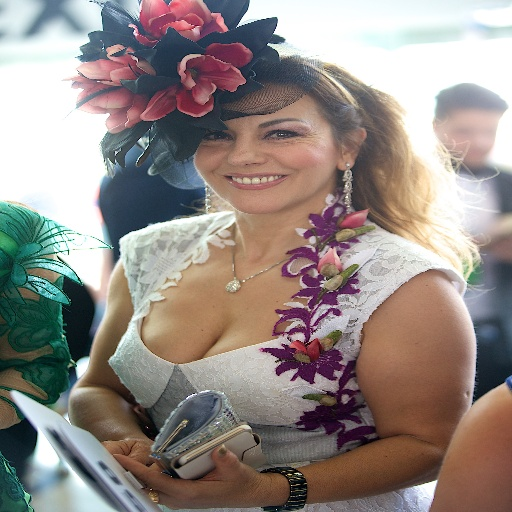hand: (138, 455, 321, 507), (100, 431, 155, 467)
